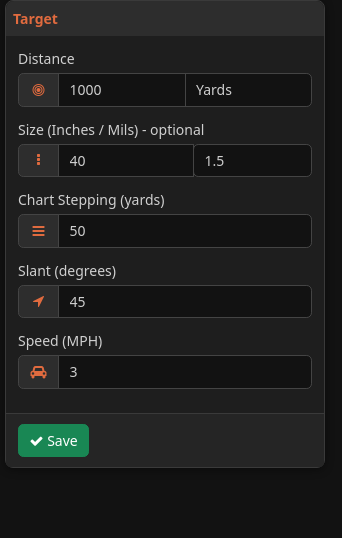
Test case: displays validation error for distance when value is below min
Clear the number field named "distance" at (122, 90), box x1=58 y1=73 x2=186 y2=106
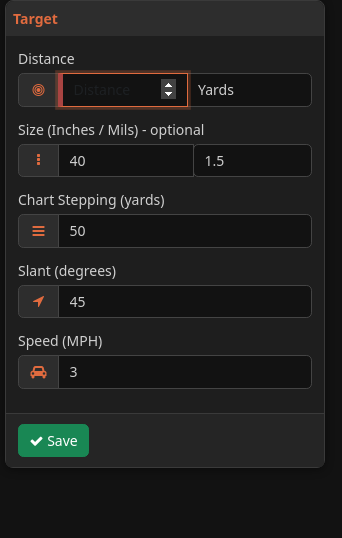
Type "-1" into the number field named "distance" at (123, 90), box x1=58 y1=73 x2=188 y2=106
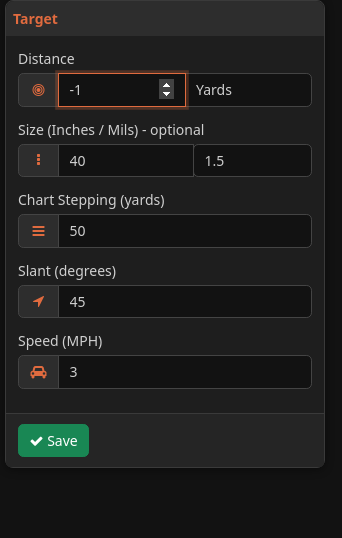
Press Tab
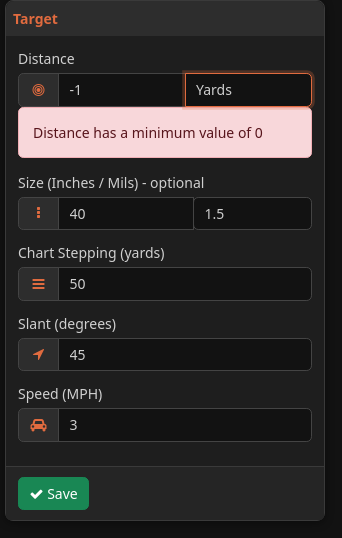
Now the text "Distance has a minimum value of 0" is shown, box x1=18 y1=106 x2=312 y2=158
